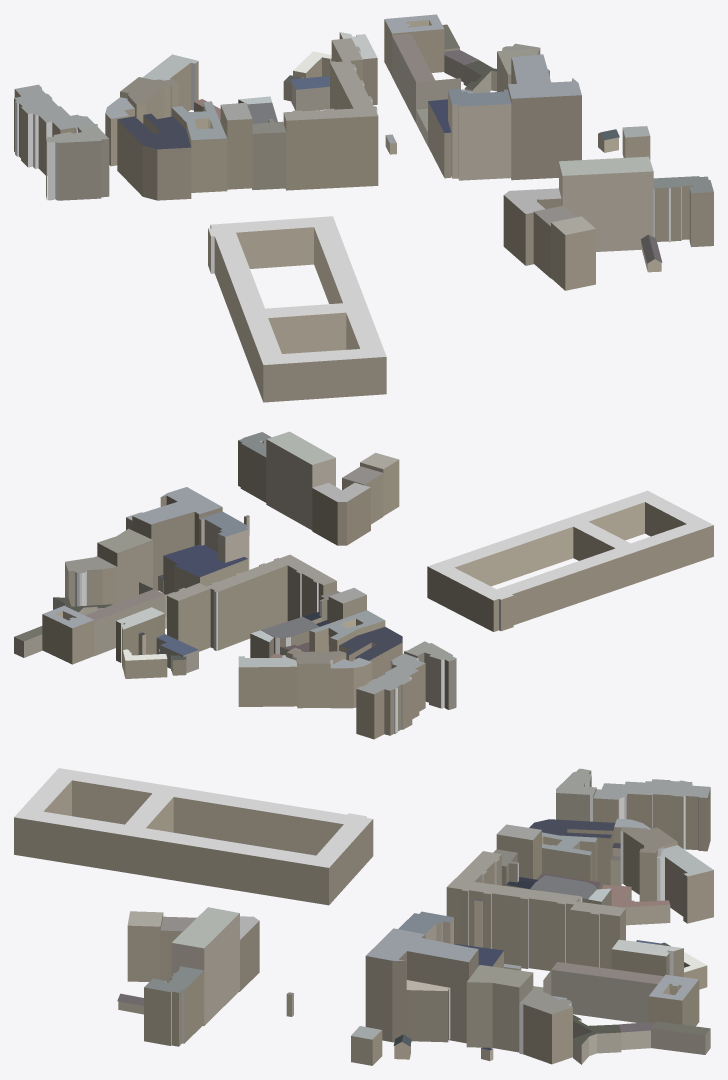
3 views of the same model, one above another, from view 1: azimuth 30°, elevation 25°; view 2: azimuth 150°, elevation 25°; view 3: azimuth 270°, elevation 25° (orthographic). The views are drawn at different scales.
Parts seen in each view (by area): view 1: tuile; view 2: tuile; view 3: tuile.
Boxes of the visible parts, x1=… form: tuile: x1=14, y1=14, x2=713, y2=402; tuile: x1=14, y1=431, x2=713, y2=739; tuile: x1=14, y1=768, x2=713, y2=1065.
Bounding box in the file's own units: 282 × 42.41 × 316.
